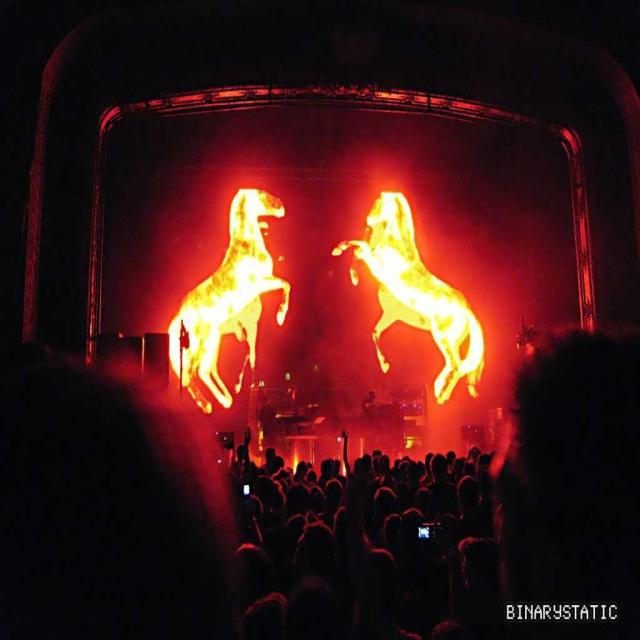Fire: (368, 188, 479, 350), (226, 184, 274, 283), (172, 310, 218, 384), (441, 350, 482, 397), (224, 292, 260, 342)
